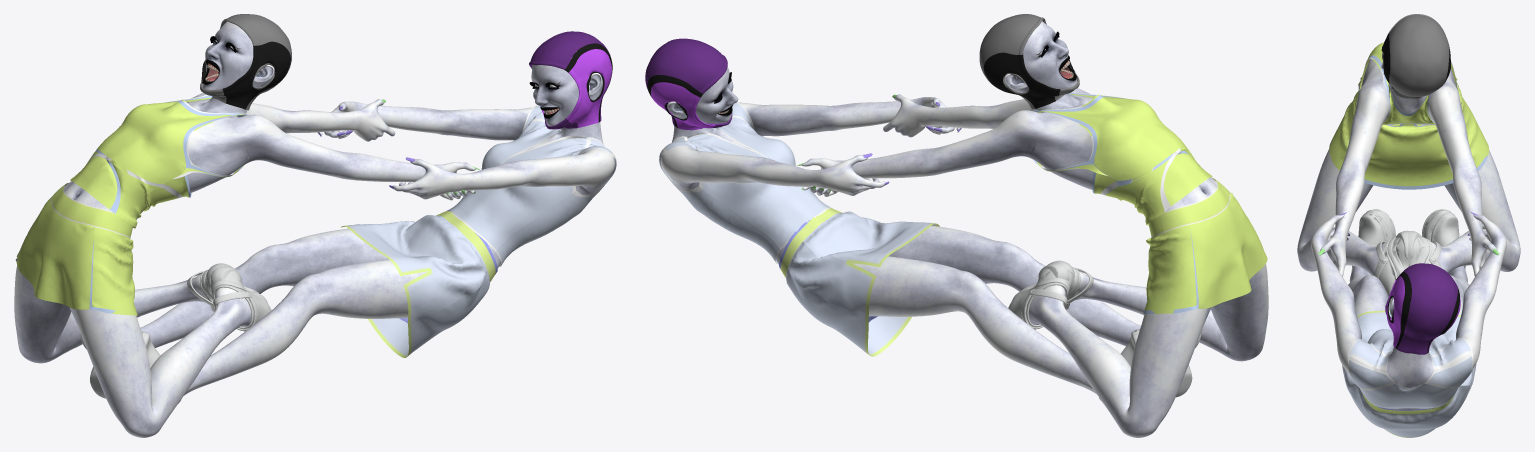
The model's file is Avatar_NB_draco2.glb.
3 renders of one model, left to right at view 1: azimuth 30°, elevation 25°; view 2: azimuth 150°, elevation 25°; view 3: azimuth 270°, elevation 25°, orthographic. The views are drawn at different scales.
Visible parts, largest first — view 1: Genesis9, Garment_NB_1, Garment_NB_2btm, Garment_NB_2top, Hood, Hood2; view 2: Genesis9, Garment_NB_1, Garment_NB_2btm, Garment_NB_2top, Hood, Hood2; view 3: Genesis9, Garment_NB_1, Garment_NB_2top, Hood, Hood2, Garment_NB_2btm.
Boxes of the visible parts, x1,y1,x2,y2 form: Genesis9: (14,21,614,437); Garment_NB_1: (15,94,248,315); Garment_NB_2btm: (341,209,497,357); Garment_NB_2top: (449,105,616,266); Hood: (201,31,612,129); Hood2: (200,14,291,110); Genesis9: (661,21,1268,437); Garment_NB_1: (1031,91,1267,313); Garment_NB_2btm: (779,208,939,356); Garment_NB_2top: (659,102,831,263); Hood: (645,38,1074,130); Hood2: (979,14,1079,109); Genesis9: (1297,59,1520,411); Garment_NB_1: (1329,42,1488,189); Garment_NB_2top: (1347,329,1473,408); Hood: (1381,33,1460,354); Hood2: (1382,14,1449,98); Garment_NB_2btm: (1342,310,1476,437).
Bounding box in the file's own units: 168 × 102 × 59.09.
Materials: 19 (15 with a texture image).
